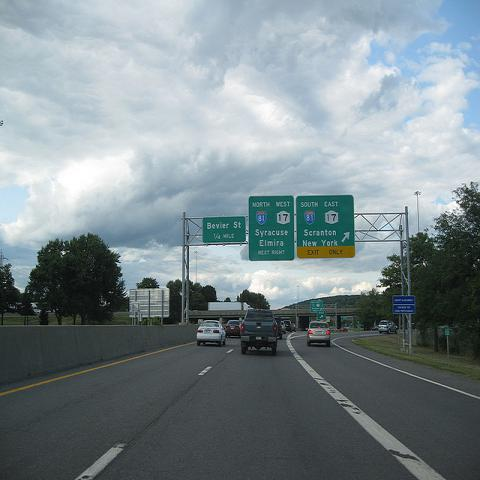car: (197, 320, 227, 347), (306, 320, 331, 347), (225, 320, 241, 338), (379, 320, 398, 332), (284, 320, 292, 331)
truck: (241, 308, 279, 356)
